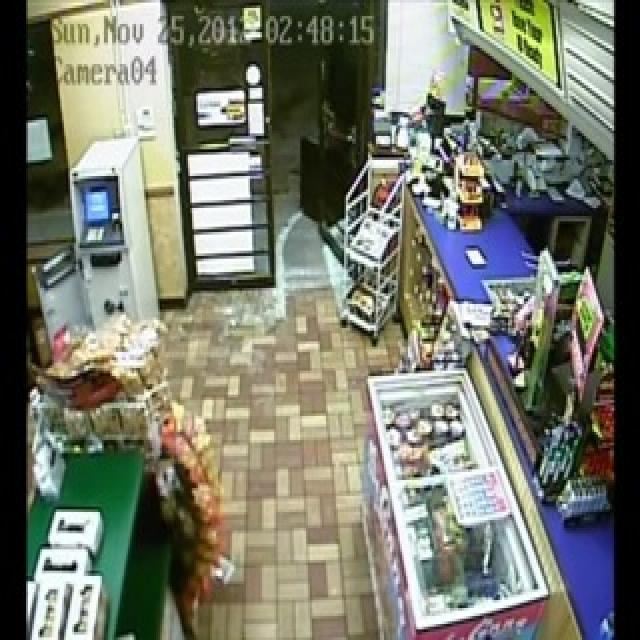thief: (296, 88, 368, 211)
